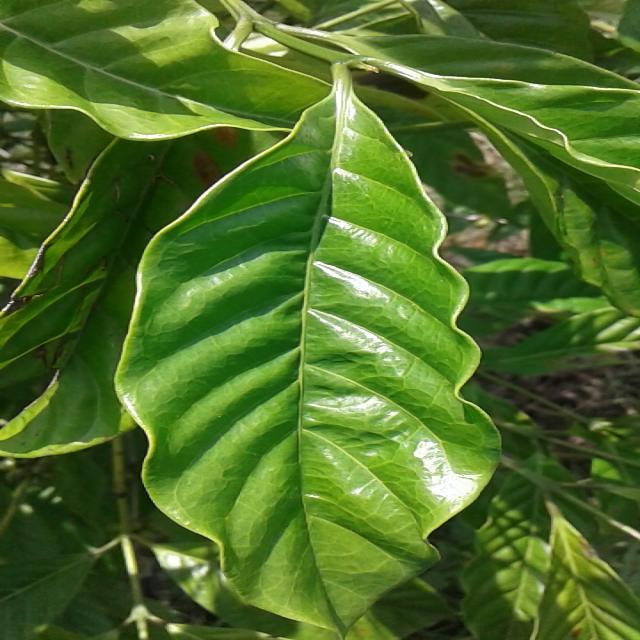Sanas: (110, 62, 501, 640)
